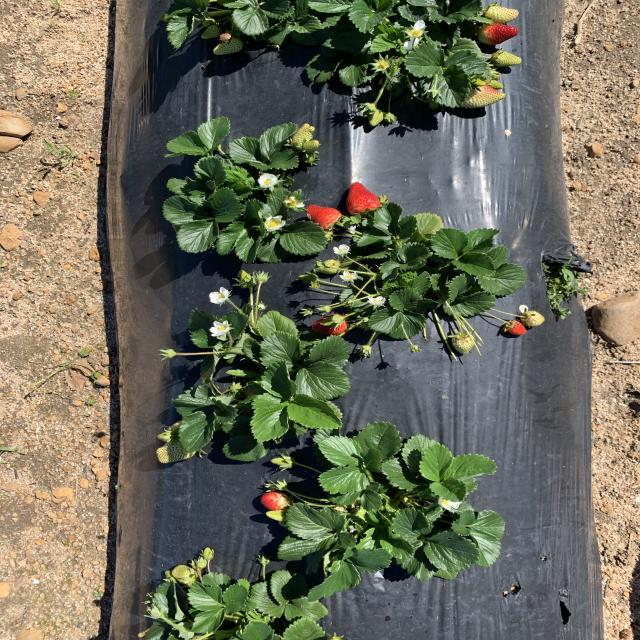unripe: (346, 182, 382, 214), (304, 204, 344, 232), (477, 23, 523, 44), (312, 314, 352, 336), (260, 493, 292, 511), (505, 320, 527, 338)
